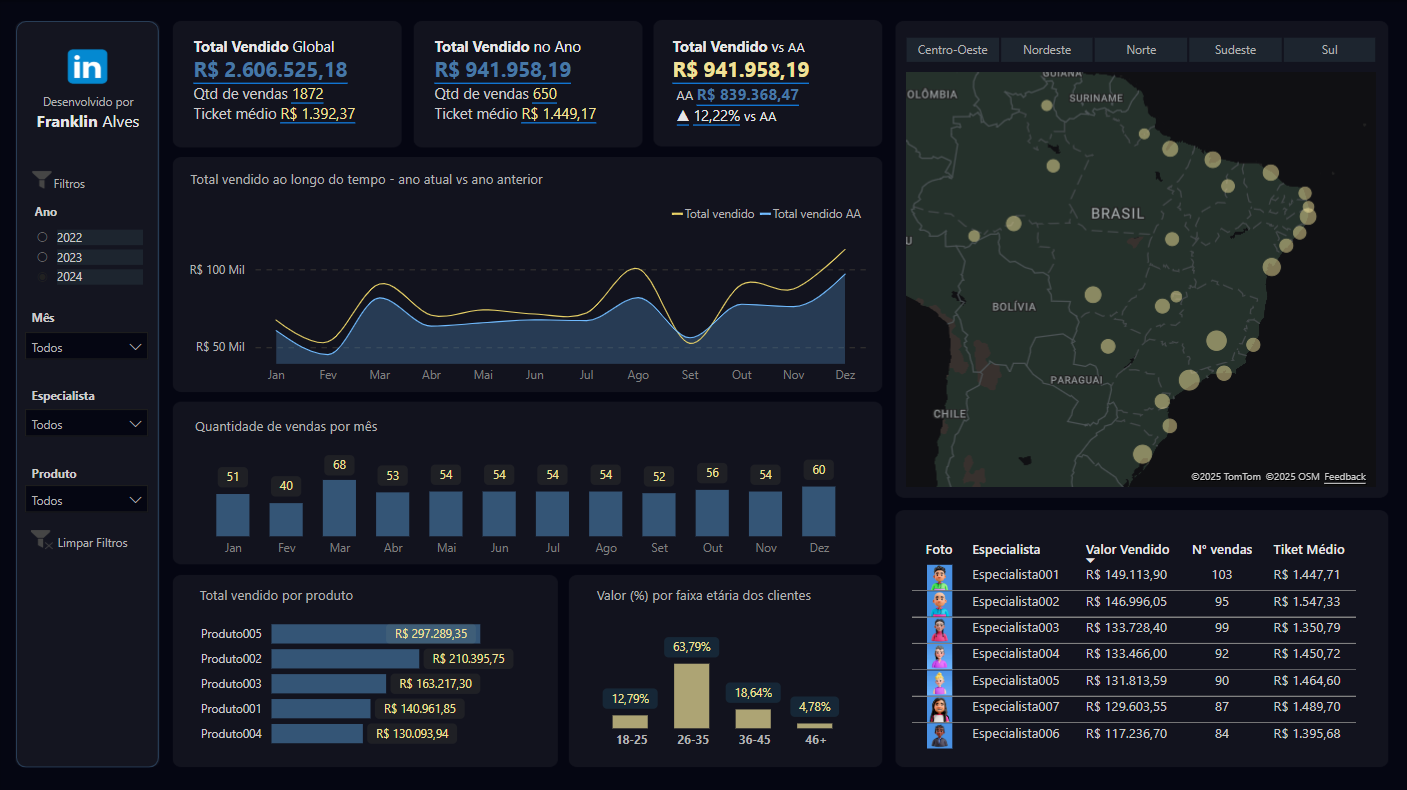

Layout of this report page (visuals, bound fields, positions):
{"tool":"powerbi","page":{"name":"Análise Geral","canvas":[1280,720],"ordinal":0},"visuals":[{"type":"shape","box":[15.8,21.1,130,678.7],"z":0},{"type":"azureMap","fields":{"Size":["_Medidas.Total Vendido"],"Category":["dCliente.estado"]},"box":[820.4,63.1,437.3,386.7],"z":1000},{"type":"barChart","fields":{"Y":["_Medidas.Total Vendido"],"Category":["dProduto.nome_produto"]},"box":[172.5,547.7,326.9,144.9],"z":2000},{"type":"lineChart","title":"Total vendido por mês","fields":{"Y":["_Medidas.Total Vendido","_Medidas.Total Vendido AA2"],"Category":["dCalendário.Mês Abreviado"]},"box":[167.8,177.6,624.8,183],"z":3000},{"type":"tableEx","fields":{"Values":["dVendedor.imagem","dVendedor.nome_vendedor","_Medidas.Total Vendido","_Medidas.Qtd de vendas","_Medidas.Tiket Médio"]},"box":[823.6,487.3,430.2,205.5],"z":4000},{"type":"columnChart","title":"Quantidade de vendas por mês","fields":{"Y":["_Medidas.Qtd de vendas"],"Category":["dCalendário.Mês Abreviado"]},"box":[168.3,404.6,627.4,113.8],"z":5000},{"type":"columnChart","title":"(%) Vendido por faixa etária","fields":{"Category":["fVendas.Categoria_Idade"],"Y":["_Medidas.Total Vendido"]},"box":[525.1,569.9,272.2,122.9],"z":6000},{"type":"slicer","fields":{"Values":["dCalendário.Ano"]},"box":[20.6,203.2,114.6,67.1],"z":7000},{"type":"slicer","fields":{"Values":["dClientes.regiao"]},"box":[799.1,29.3,476.4,32],"z":8000},{"type":"textbox","box":[168.3,374.5,185.8,28.2],"z":9000},{"type":"textbox","box":[531.1,528.1,219.8,28.2],"z":10000},{"type":"textbox","box":[168.1,528.4,168.1,28],"z":11000},{"type":"textbox","box":[163.1,150.1,346.3,28],"z":12000},{"type":"slicer","fields":{"Values":["dProduto.nome_produto"]},"box":[14,432.9,131.7,45.7],"z":13000},{"type":"slicer","fields":{"Values":["dVendedor.nome_vendedor"]},"box":[14,363.5,131.7,44.8],"z":14000},{"type":"slicer","fields":{"Values":["dCalendário.Nome do Mês"]},"box":[14,293.3,131.7,46.5],"z":15000},{"type":"textbox","box":[610,29.1,194.5,107.3],"z":16000},{"type":"textbox","box":[173.6,30,198.2,107.3],"z":17000},{"type":"textbox","box":[392.7,30,197.3,107.3],"z":18000},{"type":"textbox","box":[16.7,79,129.1,49.2],"z":19000},{"type":"textbox","box":[44.8,153.7,53.6,30.7],"z":20000},{"type":"textbox","box":[27.2,179,65.2,30.2],"z":21000},{"type":"textbox","box":[24.7,274.3,97.9,27.3],"z":22000},{"type":"textbox","box":[23.8,343.2,98.8,31.8],"z":23000},{"type":"textbox","box":[23.8,415.5,98.8,28.2],"z":24000},{"type":"textbox","box":[48.3,480.3,87.8,30.7],"z":25000},{"type":"actionButton","box":[18.2,477.3,122.7,33.6],"z":26000},{"type":"card","fields":{"Values":["_Medidas.Ano Selecionado"]},"box":[480,33.6,50,27.3],"z":27000}]}

Visuals, with their boxes in screenshot pixels (x1, y1, x2, y2), scaled from the page's 1280x720 canvas onto the 1407x790 screenshot:
shape: pyautogui.locateOnScreen(17, 23, 160, 768)
azureMap - _Medidas.Total Vendido x dCliente.estado: pyautogui.locateOnScreen(902, 69, 1382, 494)
barChart - _Medidas.Total Vendido x dProduto.nome_produto: pyautogui.locateOnScreen(190, 601, 549, 760)
"Total vendido por mês" lineChart: pyautogui.locateOnScreen(184, 195, 871, 396)
tableEx - dVendedor.imagem x dVendedor.nome_vendedor: pyautogui.locateOnScreen(905, 535, 1378, 760)
"Quantidade de vendas por mês" columnChart: pyautogui.locateOnScreen(185, 444, 875, 569)
"(%) Vendido por faixa etária" columnChart: pyautogui.locateOnScreen(577, 625, 876, 760)
slicer - dCalendário.Ano: pyautogui.locateOnScreen(23, 223, 149, 297)
slicer - dClientes.regiao: pyautogui.locateOnScreen(878, 32, 1402, 67)
textbox: pyautogui.locateOnScreen(185, 411, 389, 442)
textbox: pyautogui.locateOnScreen(584, 579, 825, 610)
textbox: pyautogui.locateOnScreen(185, 580, 370, 610)
textbox: pyautogui.locateOnScreen(179, 165, 560, 195)
slicer - dProduto.nome_produto: pyautogui.locateOnScreen(15, 475, 160, 525)
slicer - dVendedor.nome_vendedor: pyautogui.locateOnScreen(15, 399, 160, 448)
slicer - dCalendário.Nome do Mês: pyautogui.locateOnScreen(15, 322, 160, 373)
textbox: pyautogui.locateOnScreen(671, 32, 884, 150)
textbox: pyautogui.locateOnScreen(191, 33, 409, 151)
textbox: pyautogui.locateOnScreen(432, 33, 649, 151)
textbox: pyautogui.locateOnScreen(18, 87, 160, 141)
textbox: pyautogui.locateOnScreen(49, 169, 108, 202)
textbox: pyautogui.locateOnScreen(30, 196, 102, 230)
textbox: pyautogui.locateOnScreen(27, 301, 135, 331)
textbox: pyautogui.locateOnScreen(26, 377, 135, 411)
textbox: pyautogui.locateOnScreen(26, 456, 135, 487)
textbox: pyautogui.locateOnScreen(53, 527, 150, 561)
actionButton: pyautogui.locateOnScreen(20, 524, 155, 561)
card - _Medidas.Ano Selecionado: pyautogui.locateOnScreen(528, 37, 583, 67)
